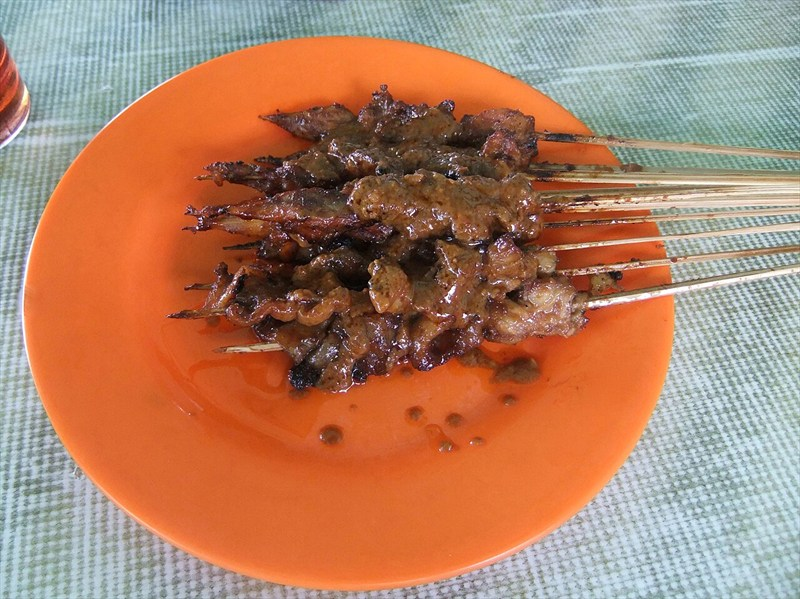Sate Ayam: (112, 74, 653, 490)
